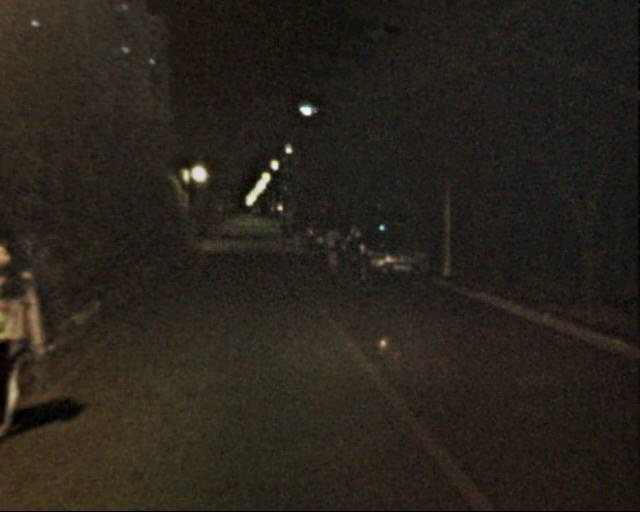person: (3, 233, 70, 407), (321, 225, 341, 274), (288, 217, 302, 251), (278, 221, 288, 246)
